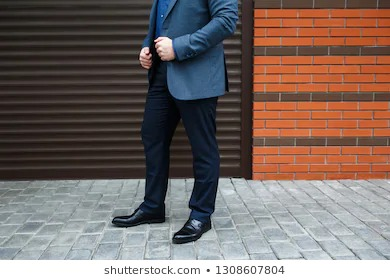F_M_suit jacket: (140, 1, 238, 95)
F_dress pants: (138, 55, 221, 225)
